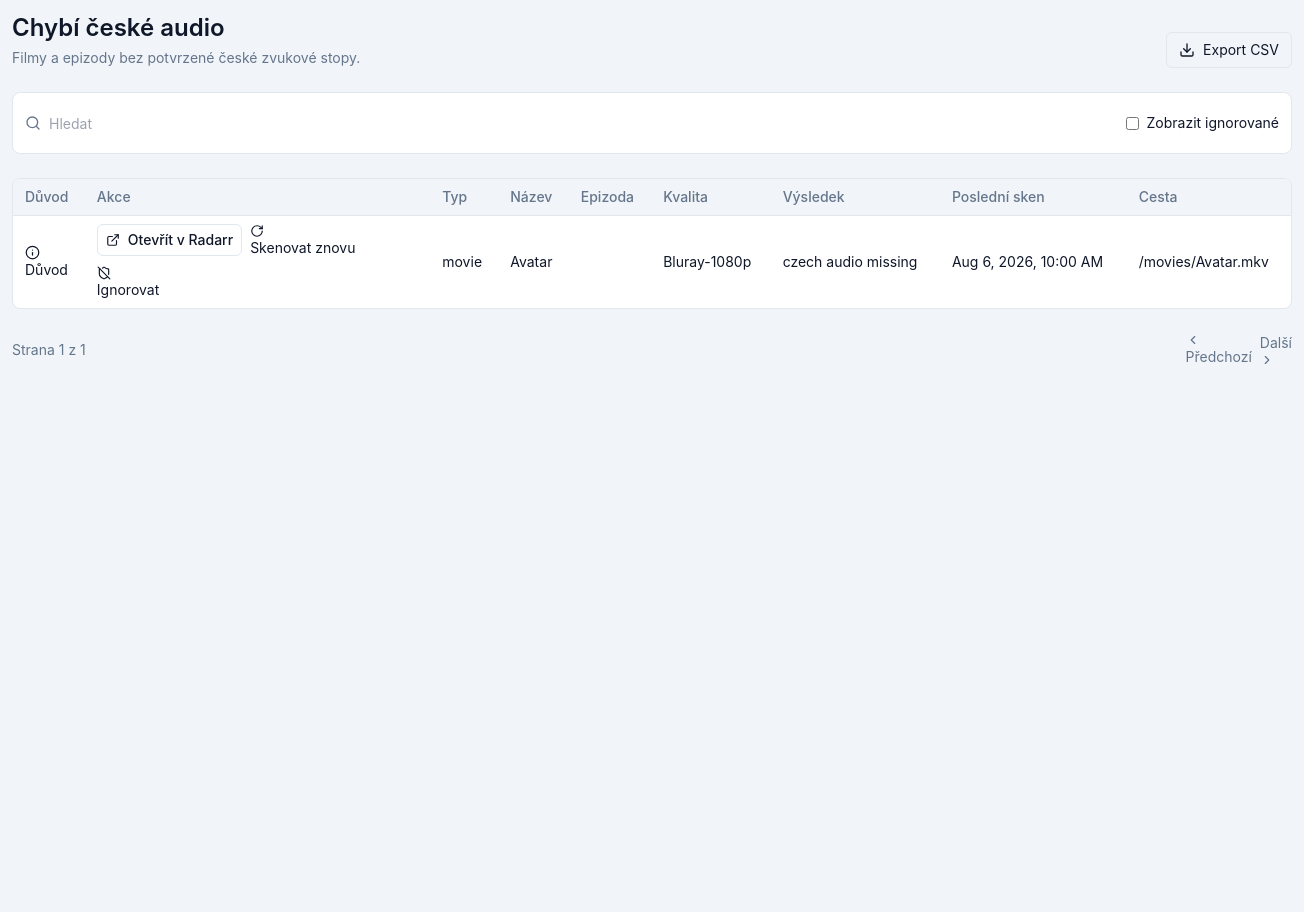
Scenario: media pages › shows an ffmpeg repair plan from missing audio diagnostics
Click the button "Důvod": (46, 262) x1=25 y1=244 x2=68 y2=280
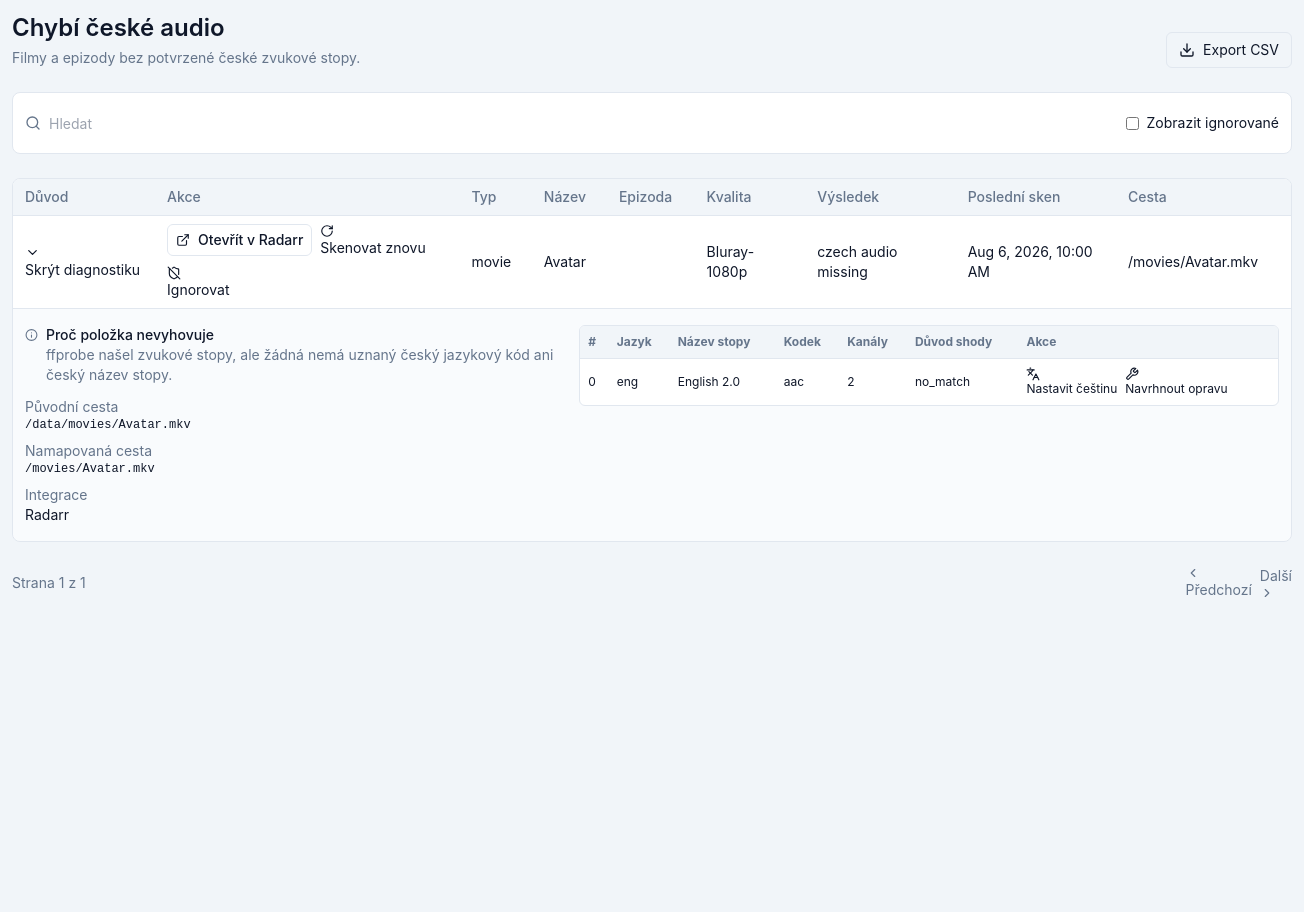
Click the button "Navrhnout opravu": (1176, 382) x1=1125 y1=367 x2=1228 y2=397
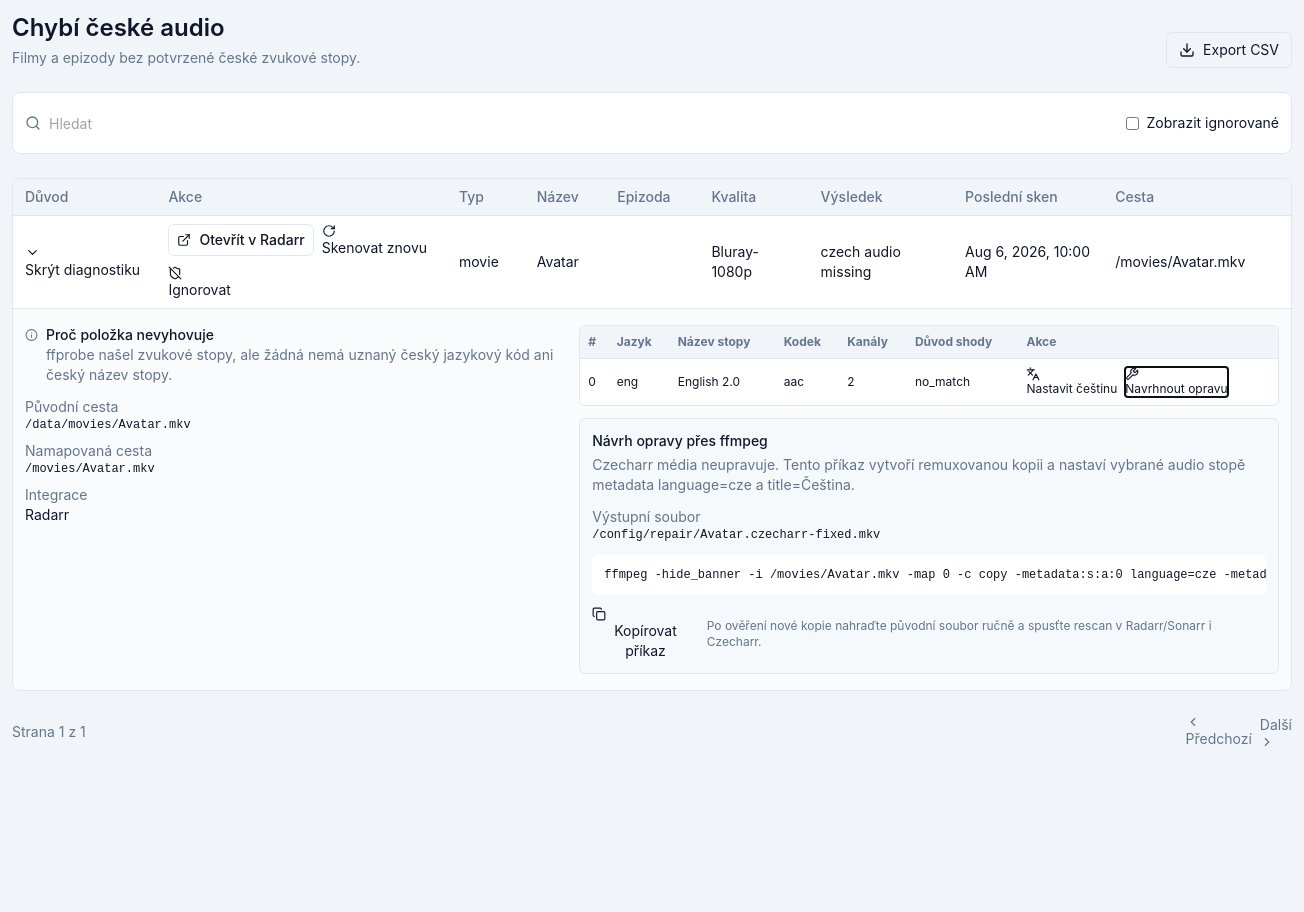
Now the text "ffmpeg -hide_banner" is shown, box x1=604 y1=568 x2=1292 y2=582
Now the text "/config/repair/Avatar.czecharr-fixed.mkv" is shown, box x1=592 y1=528 x2=880 y2=542
